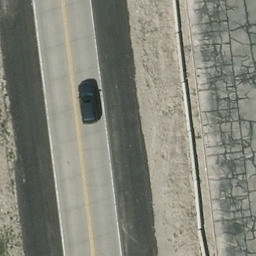car: (80, 82, 100, 123)
